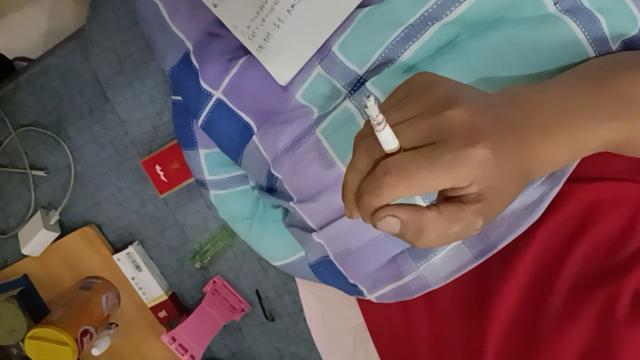Smoking: (365, 94, 407, 166)
